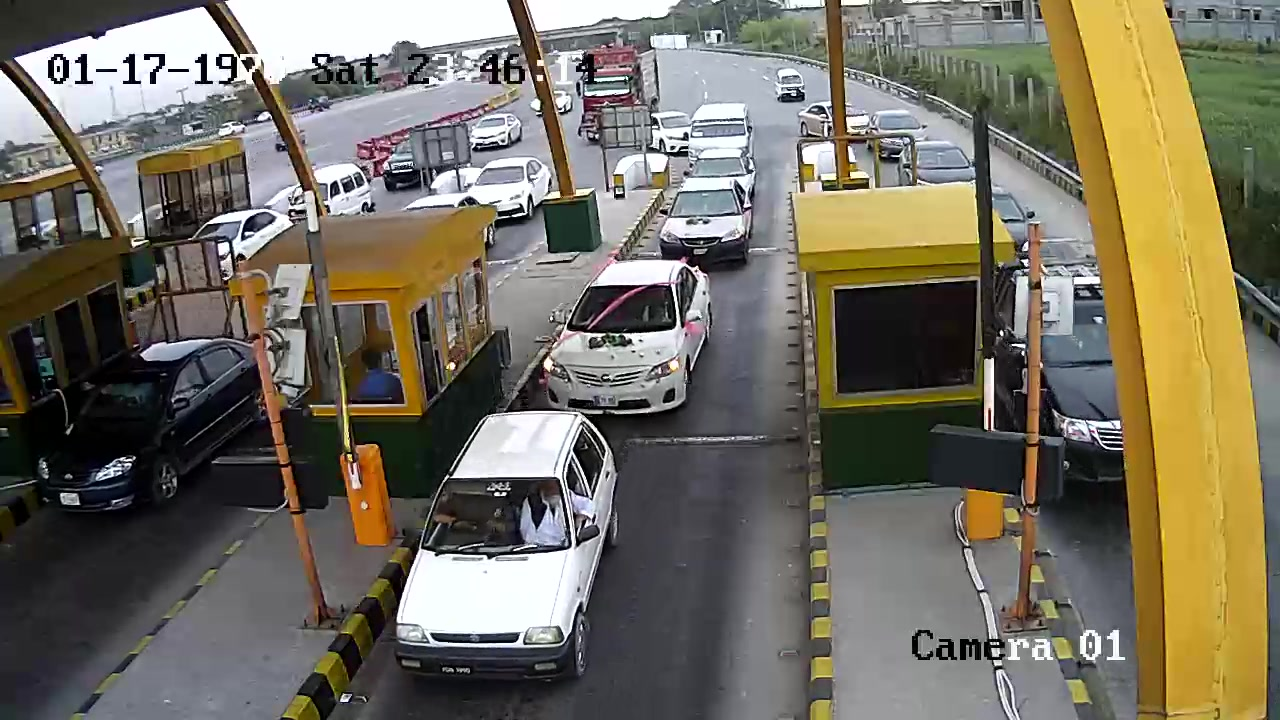F1: (383, 407, 631, 692), (524, 258, 712, 415)
